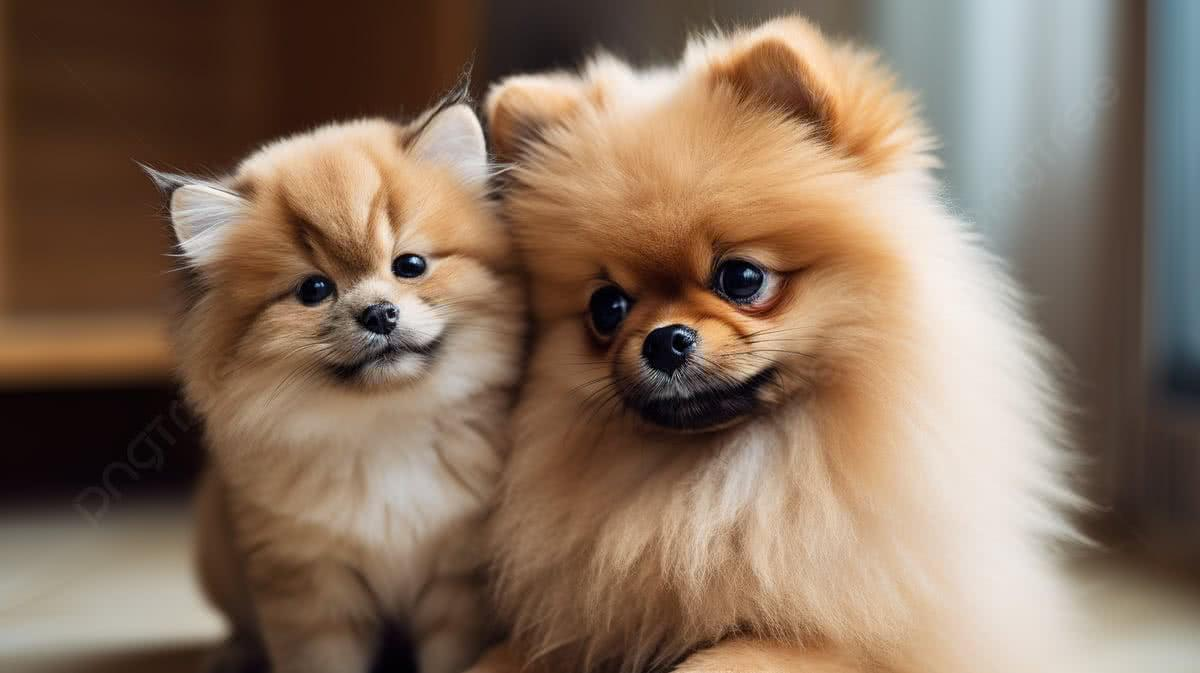dog: (532, 10, 1098, 673), (152, 103, 528, 673)
